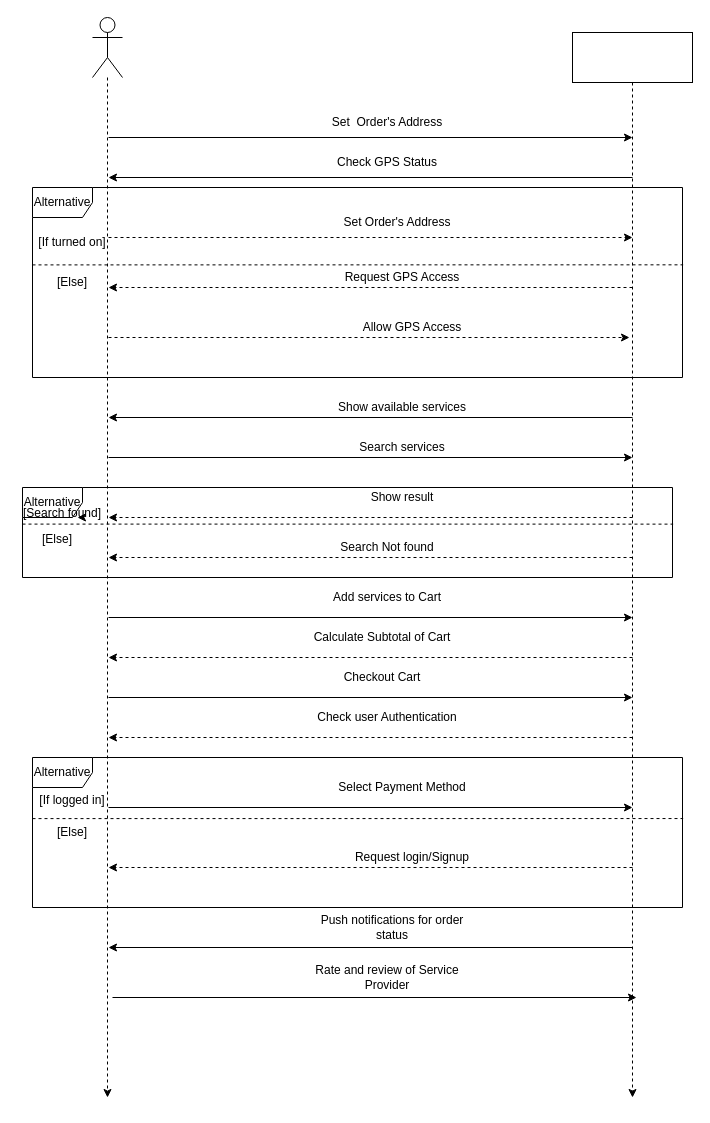
The diagram is 710 pixels wide and 1123 high, and some of its shapes have lost their labels. Here are the shapes that lost their labels. From the top down, the box of each, then its label:
(92, 16, 122, 78): ServiceUser
(572, 32, 692, 82): System
